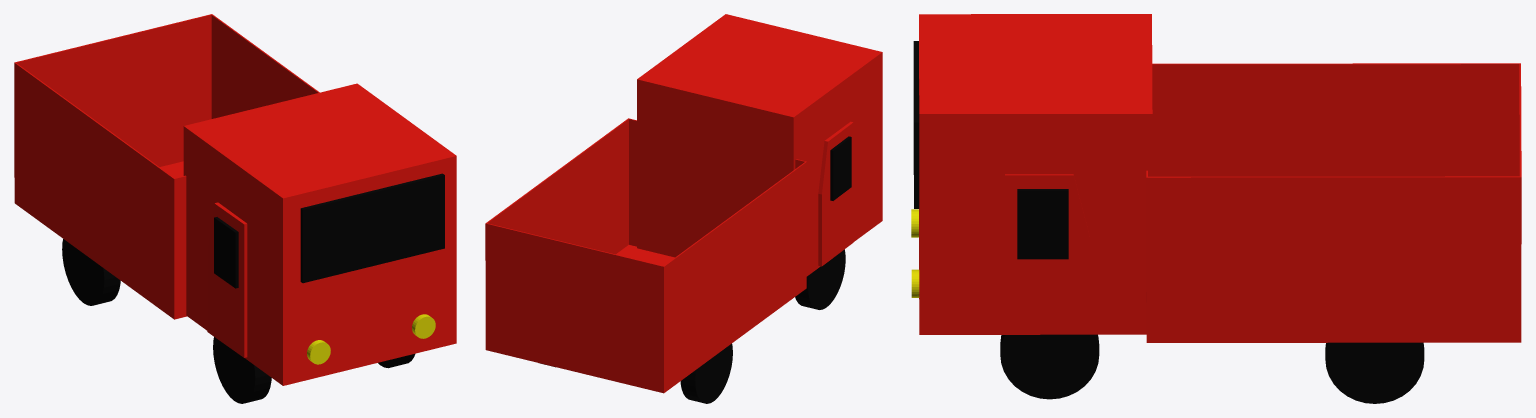
File: car.fbx
3 renders of one model, left to right at view 1: azimuth 30°, elevation 25°; view 2: azimuth 150°, elevation 25°; view 3: azimuth 270°, elevation 25°, orthographic. The views are drawn at different scales.
Visible parts, largest first — view 1: Cube.003, Cube.002, Cylinder.001, Cylinder.003, Cube.006, Cylinder.008, Cylinder.009; view 2: Cube.003, Cylinder.003, Cylinder.001, Cube.006; view 3: Cube.003, Cylinder, Cylinder.002, Cube.004, Cube.002.
Boxes of the visible parts, box(x1,y1,x2,y2) form: Cube.003: box(14, 14, 456, 385); Cube.002: box(300, 173, 444, 283); Cylinder.001: box(213, 337, 271, 403); Cylinder.003: box(62, 239, 120, 305); Cube.006: box(214, 217, 238, 288); Cylinder.008: box(307, 340, 330, 364); Cylinder.009: box(412, 314, 435, 338); Cube.003: box(485, 14, 882, 393); Cylinder.003: box(680, 343, 732, 403); Cylinder.001: box(795, 249, 845, 309); Cube.006: box(830, 136, 851, 200); Cube.003: box(919, 14, 1521, 342); Cylinder: box(1000, 334, 1099, 399); Cylinder.002: box(1325, 342, 1424, 403); Cube.004: box(1017, 189, 1068, 259); Cube.002: box(913, 41, 919, 208).
Bounding box in the file's own units: 422 × 496 × 952.
